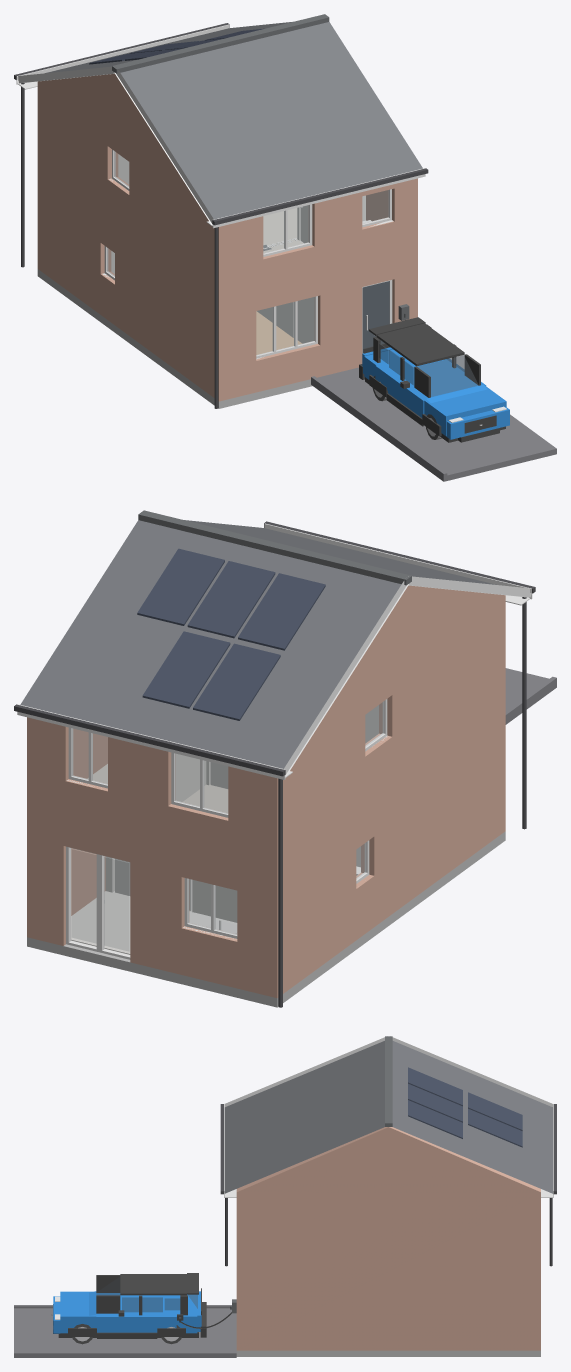
The model's file is Taylor_Wimpey_Blair.glb.
The picture shows the model from 3 angles, top to bottom: view 1: azimuth 30°, elevation 25°; view 2: azimuth 150°, elevation 25°; view 3: azimuth 270°, elevation 25°; orthographic projection. The views are drawn at different scales.
Parts seen in each view (by area): view 1: Exterior_Walls, Roof_Main, Driveway, Car_Peugeot_e2008_Body, Windows_Glass, Car_Peugeot_e2008_Trim, Fascia_and_Soffits, Rainwater_Gutters, Windows_Frames, Ground_Floor_Slab, Car_Peugeot_e2008_Glass, Roof_Ridge_Tiles (+7 smaller); view 2: Exterior_Walls, Roof_Main, Roof_Solar_Panels, Windows_Glass, Fascia_and_Soffits, Separating_Party_Wall, Rainwater_Gutters, Ground_Floor_Slab, Roof_Ridge_Tiles, Windows_Frames, Ground_Floor_Tile_Floor, Interior_Walls_Ground (+5 smaller); view 3: Separating_Party_Wall, Roof_Main, Driveway, Car_Peugeot_e2008_Body, Roof_Solar_Panels, Car_Peugeot_e2008_Trim, Ground_Floor_Slab, Fascia_and_Soffits, Rainwater_Gutters, Car_Peugeot_e2008_Glass, Roof_Ridge_Tiles.
Boxes of the visible parts, x1,y1,x2,y2 form: Exterior_Walls: [37, 74, 407, 401]; Roof_Main: [45, 22, 422, 219]; Driveway: [311, 367, 556, 481]; Car_Peugeot_e2008_Body: [362, 347, 509, 439]; Windows_Glass: [107, 151, 388, 355]; Car_Peugeot_e2008_Trim: [359, 317, 505, 442]; Fascia_and_Soffits: [16, 24, 425, 228]; Rainwater_Gutters: [14, 23, 428, 408]; Windows_Frames: [102, 149, 393, 359]; Ground_Floor_Slab: [37, 269, 312, 408]; Car_Peugeot_e2008_Glass: [379, 343, 478, 396]; Roof_Ridge_Tiles: [112, 14, 329, 73]; Exterior_Walls: [39, 585, 505, 998]; Roof_Main: [20, 520, 496, 768]; Roof_Solar_Panels: [137, 548, 325, 720]; Windows_Glass: [72, 701, 383, 951]; Fascia_and_Soffits: [17, 523, 532, 779]; Separating_Party_Wall: [27, 717, 107, 939]; Rainwater_Gutters: [14, 521, 535, 1007]; Ground_Floor_Slab: [27, 831, 505, 1007]; Roof_Ridge_Tiles: [138, 510, 411, 585]; Windows_Frames: [67, 699, 388, 939]; Ground_Floor_Tile_Floor: [71, 880, 192, 954]; Interior_Walls_Ground: [105, 846, 360, 922]; Separating_Party_Wall: [236, 1127, 540, 1350]; Roof_Main: [224, 1041, 552, 1193]; Driveway: [14, 1305, 236, 1357]; Car_Peugeot_e2008_Body: [53, 1291, 201, 1333]; Roof_Solar_Panels: [408, 1067, 522, 1147]; Car_Peugeot_e2008_Trim: [53, 1273, 206, 1338]; Ground_Floor_Slab: [236, 1350, 540, 1356]; Fascia_and_Soffits: [224, 1037, 553, 1197]; Rainwater_Gutters: [220, 1104, 556, 1266]; Car_Peugeot_e2008_Glass: [96, 1277, 197, 1311]; Roof_Ridge_Tiles: [385, 1036, 392, 1126].
Bounding box in the file's own units: 6.2 × 7.53 × 15.85.
